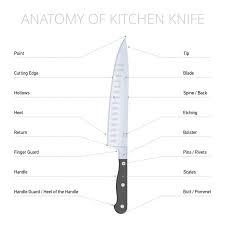Knife: (106, 35, 129, 213)
